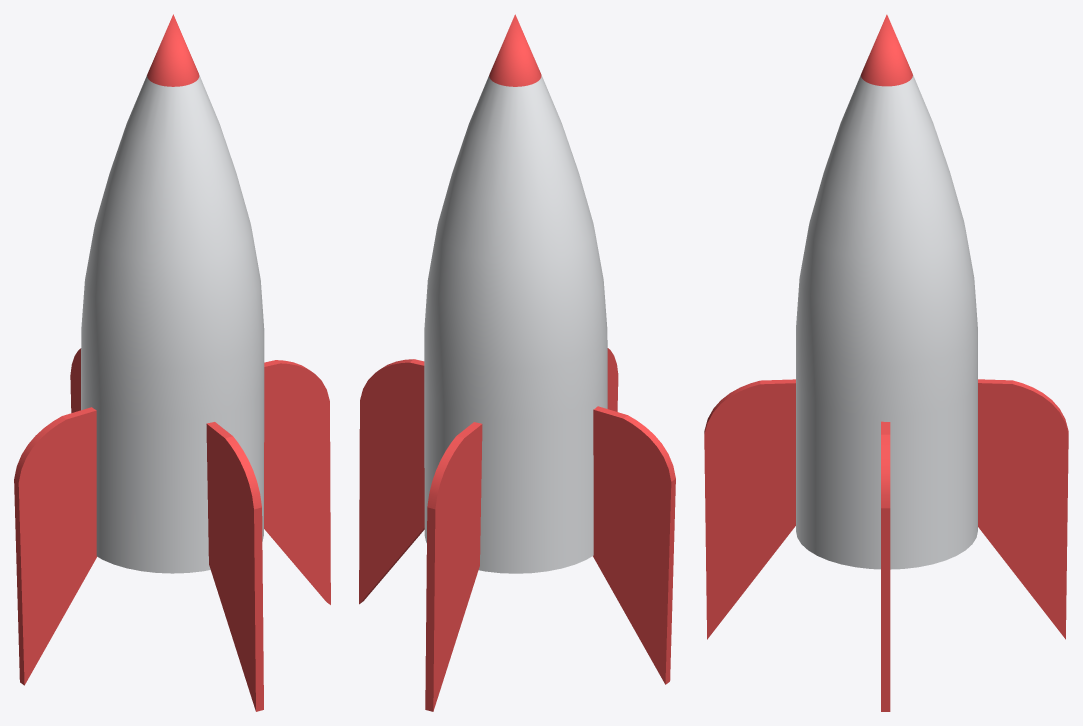
The model's file is rocket.FBX.
The picture shows the model from 3 angles, left to right: view 1: azimuth 30°, elevation 25°; view 2: azimuth 150°, elevation 25°; view 3: azimuth 270°, elevation 25°; orthographic projection.
Visible parts, largest first — view 1: rocket; view 2: rocket; view 3: rocket.
Boxes of the visible parts, bbox=[...] form: rocket: bbox=[14, 14, 330, 711]; rocket: bbox=[359, 14, 675, 711]; rocket: bbox=[704, 14, 1068, 711].
Bounding box in the file's own units: 1.43 × 2.77 × 1.45.
Materials: 1 (1 with a texture image).
